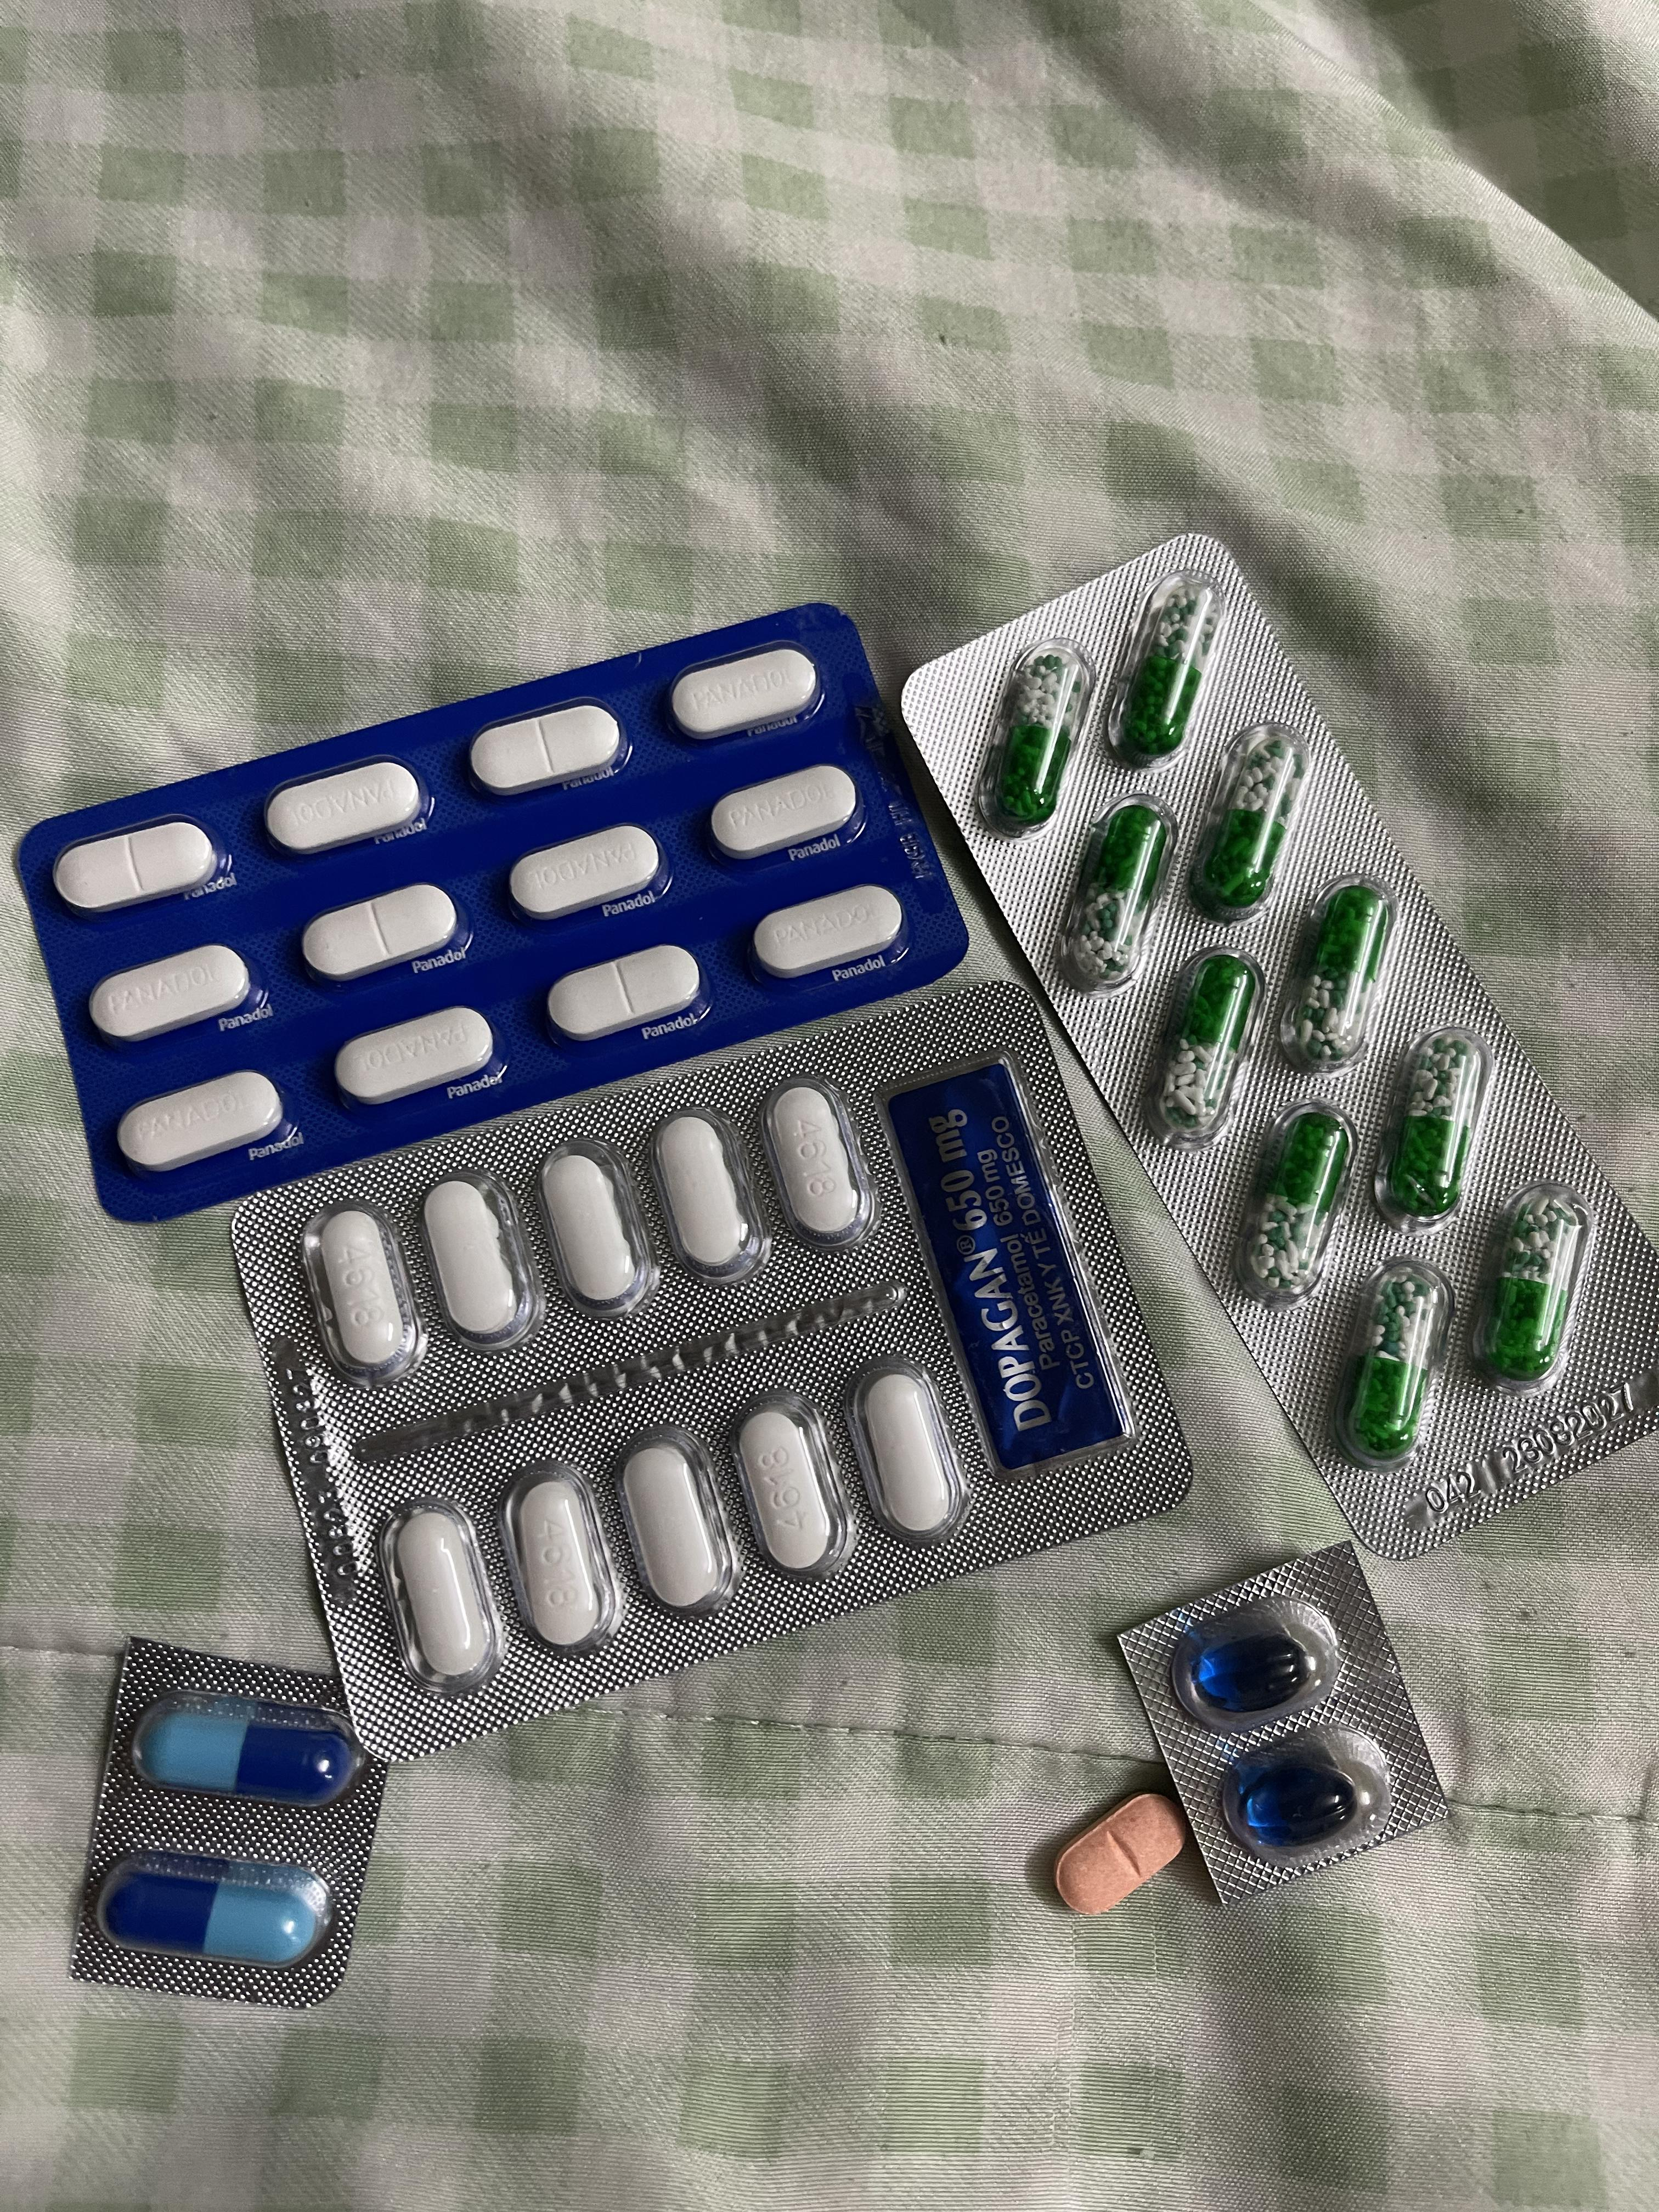Lincomyxin_500mg: (1239, 1764, 1358, 1841), (1195, 1635, 1307, 1710)
Loratadine_10mg: (1054, 1792, 1182, 1918)
Paracetamol_350mg: (113, 1068, 288, 1174), (87, 942, 256, 1049), (54, 817, 223, 918), (335, 1007, 500, 1109), (301, 883, 460, 988), (751, 883, 910, 988), (509, 824, 664, 928), (265, 758, 425, 859), (469, 700, 629, 801), (551, 942, 706, 1045), (671, 643, 823, 744), (709, 765, 859, 866)
Paracetamol_500mg: (728, 1386, 857, 1583), (500, 1458, 624, 1655), (298, 1197, 427, 1383), (415, 1174, 542, 1355), (535, 1143, 660, 1324), (648, 1106, 772, 1284), (760, 1076, 878, 1252), (622, 1437, 723, 1611), (396, 1508, 490, 1674), (859, 1374, 951, 1536)
Paracetamol_650mg: (986, 648, 1086, 829), (1249, 1113, 1349, 1291), (1162, 951, 1260, 1130), (1347, 1273, 1438, 1454), (1201, 745, 1298, 911), (1291, 890, 1385, 1061), (1391, 1042, 1480, 1217), (1122, 585, 1213, 758), (1070, 805, 1162, 972), (1488, 1205, 1577, 1376)
pill: (89, 1850, 338, 1972), (134, 1691, 373, 1808)
